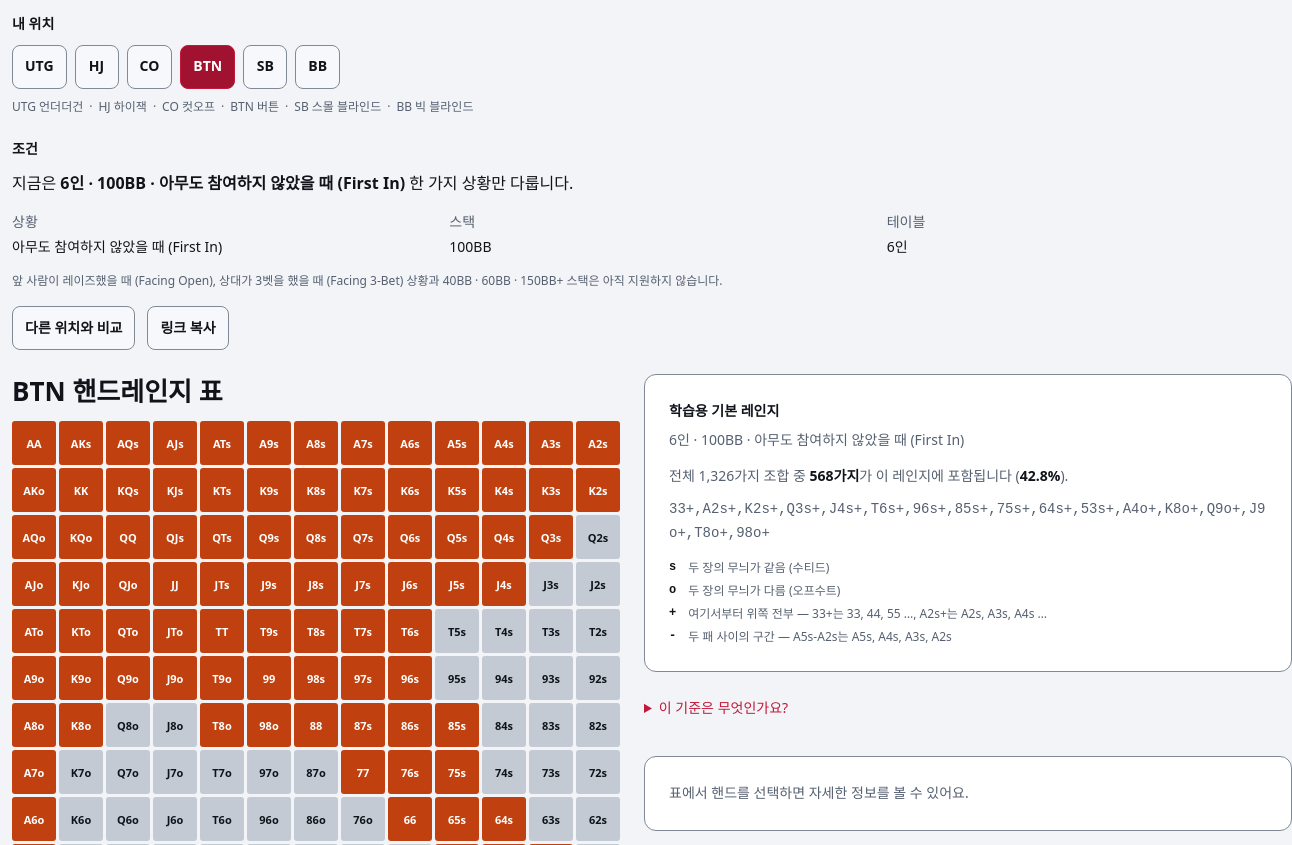
Test case: RangeExplorer › Compare mode › defaults the compare target to UTG when hero is BTN, per the build spec example pair
Expected: the button with aria-label "버튼(BTN) 자리" is shown, [180, 44, 235, 88]
Click the button "다른 위치와 비교": [74, 328] box [12, 306, 136, 350]
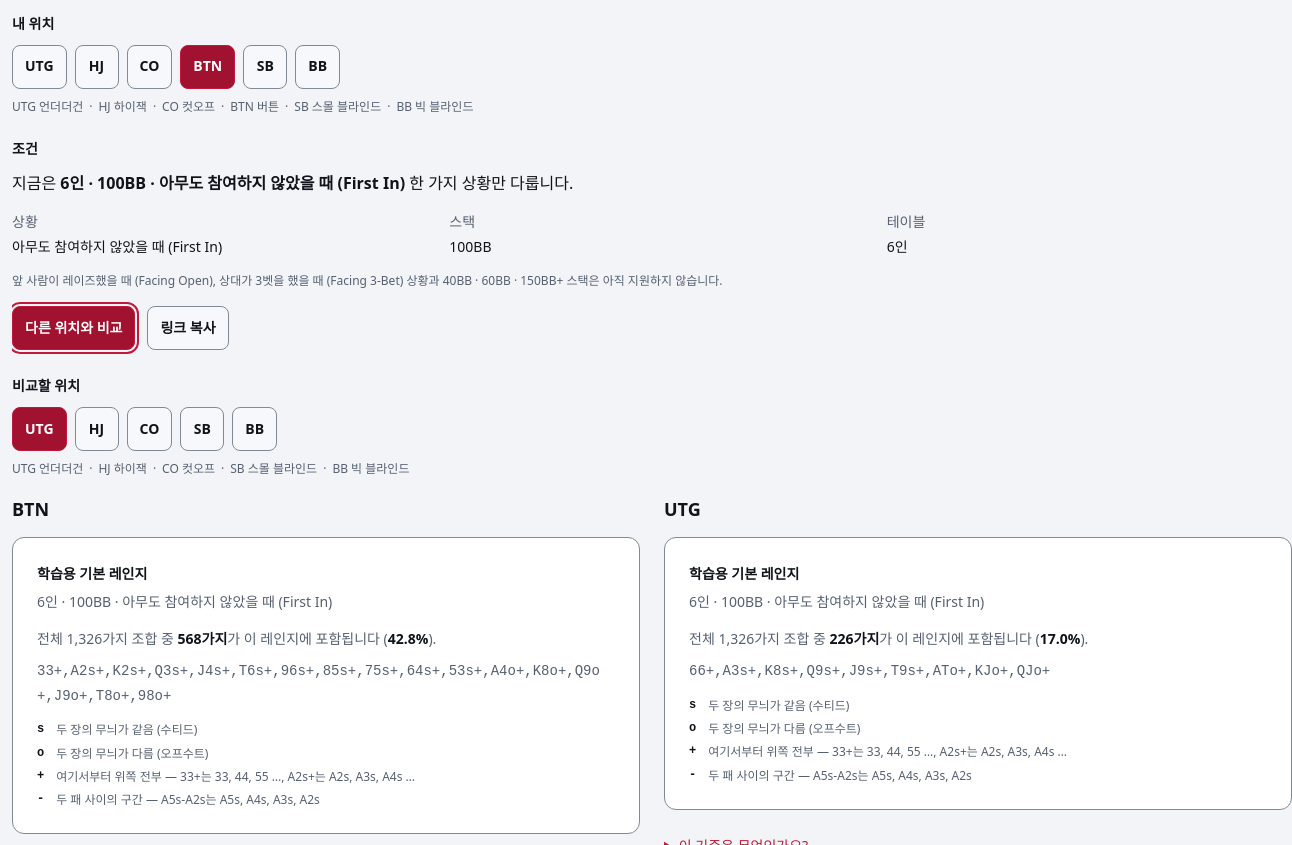
Now the element named "비교할 위치" shows "UTG", box [12, 407, 66, 451]
